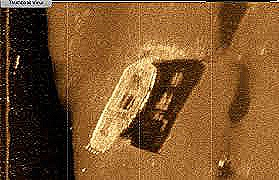ship: (84, 60, 158, 158)
